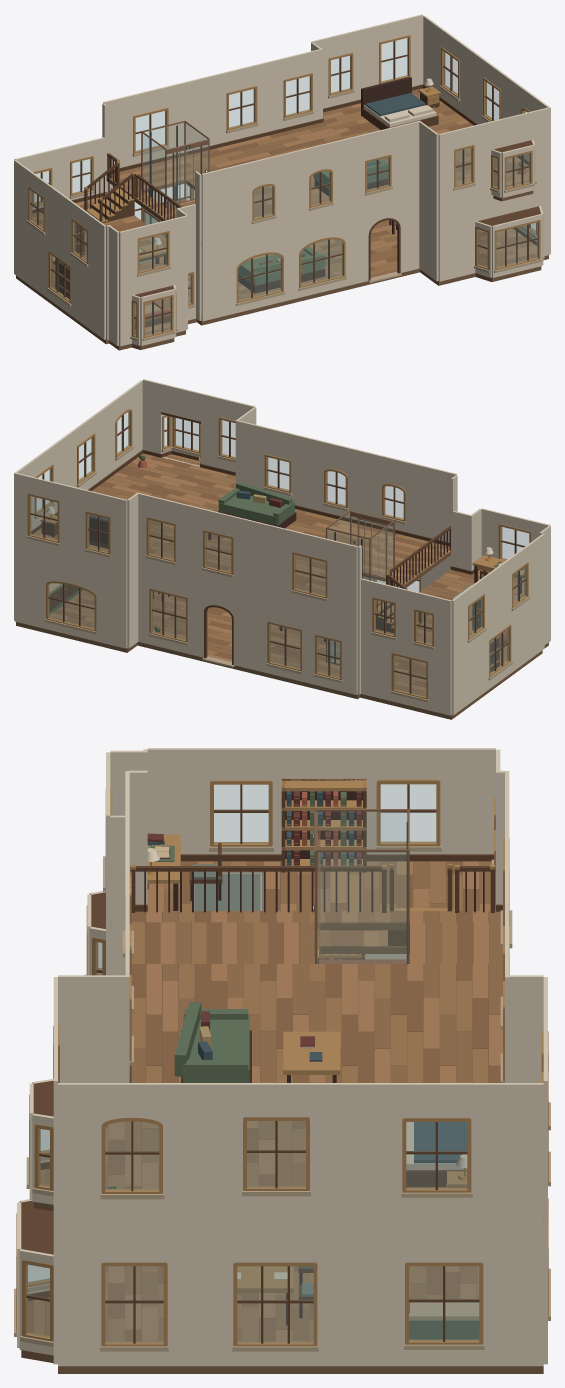
Rendered from manor-villa-interior.glb.
3 views of the same model, one above another, from view 1: azimuth 30°, elevation 25°; view 2: azimuth 150°, elevation 25°; view 3: azimuth 270°, elevation 25° (orthographic). The views are drawn at different scales.
Parts seen in each view (by area): view 1: Villa exterior wall 0 level 2 - plaster, Villa exterior wall 1 level 2 - plaster, Villa exterior wall 0 level 1 - plaster, Villa exterior wall 2 level 2 - plaster, Villa exterior wall 4 level 2 - plaster, Villa exterior wall 2 level 1 - plaster, Villa exterior wall 3 level 2 - plaster, Villa exterior wall 13 level 1 - plaster, Villa exterior wall 13 level 2 - plaster, Villa exterior wall 0 level 1 - glass, Villa exterior wall 9 level 2 - plaster, Upper floorboards - floor0 (+57 smaller); view 2: Villa exterior wall 1 level 2 - plaster, Villa exterior wall 0 level 2 - plaster, Villa exterior wall 1 level 1 - plaster, Villa exterior wall 3 level 1 - plaster, Villa exterior wall 3 level 2 - plaster, Villa exterior wall 4 level 2 - plaster, Villa exterior wall 2 level 2 - plaster, Villa exterior wall 13 level 1 - plaster, Villa exterior wall 13 level 2 - plaster, Upper floorboards - floor0, Villa exterior wall 12 level 2 - plaster, Villa exterior wall 12 level 1 - plaster (+47 smaller); view 3: Villa exterior wall 4 level 2 - plaster, Villa exterior wall 4 level 1 - plaster, Villa exterior wall 13 level 2 - plaster, Upper floorboards - floor0, Upper floorboards - floor2, Upper floorboards - floor3, Upper floorboards - floor1, Villa exterior wall 4 level 1 - glass, Side glazing (×2), Villa exterior wall 4 level 2 - glass, Villa exterior wall 5 level 2 - plaster, Villa exterior wall 13 level 2 - glass (+47 smaller).
Part boxes in pixels (box(x1,y1,x2,y2)): Villa exterior wall 0 level 2 - plaster: box(201, 120, 419, 246); Villa exterior wall 1 level 2 - plaster: box(103, 48, 322, 169); Villa exterior wall 0 level 1 - plaster: box(201, 194, 419, 321); Villa exterior wall 2 level 2 - plaster: box(438, 107, 550, 207); Villa exterior wall 4 level 2 - plaster: box(423, 15, 550, 179); Villa exterior wall 2 level 1 - plaster: box(438, 180, 550, 281); Villa exterior wall 3 level 2 - plaster: box(311, 14, 423, 108); Villa exterior wall 13 level 1 - plaster: box(14, 218, 105, 339); Villa exterior wall 13 level 2 - plaster: box(14, 160, 105, 283); Villa exterior wall 0 level 1 - glass: box(238, 239, 342, 300); Villa exterior wall 9 level 2 - plaster: box(119, 215, 187, 290); Upper floorboards - floor0: box(32, 92, 529, 270); Villa exterior wall 1 level 2 - plaster: box(136, 492, 357, 619); Villa exterior wall 0 level 2 - plaster: box(235, 420, 456, 542); Villa exterior wall 1 level 1 - plaster: box(138, 567, 357, 694); Villa exterior wall 3 level 1 - plaster: box(14, 546, 127, 648); Villa exterior wall 3 level 2 - plaster: box(14, 473, 127, 573); Villa exterior wall 4 level 2 - plaster: box(14, 380, 142, 545); Villa exterior wall 2 level 2 - plaster: box(142, 379, 255, 471); Villa exterior wall 13 level 1 - plaster: box(451, 592, 544, 715); Villa exterior wall 13 level 2 - plaster: box(451, 534, 544, 658); Upper floorboards - floor0: box(39, 455, 524, 637); Villa exterior wall 12 level 2 - plaster: box(361, 578, 451, 658); Villa exterior wall 12 level 1 - plaster: box(361, 637, 451, 715); Villa exterior wall 4 level 2 - plaster: box(58, 1083, 543, 1222); Villa exterior wall 4 level 1 - plaster: box(58, 1222, 543, 1366); Villa exterior wall 13 level 2 - plaster: box(147, 748, 495, 854); Upper floorboards - floor0: box(46, 861, 502, 1188); Upper floorboards - floor2: box(105, 861, 500, 1188); Upper floorboards - floor3: box(108, 861, 502, 1188); Upper floorboards - floor1: box(40, 861, 488, 1188); Villa exterior wall 4 level 1 - glass: box(105, 1266, 478, 1342); Side glazing (×2): box(318, 812, 406, 963); Villa exterior wall 4 level 2 - glass: box(105, 1121, 466, 1190); Villa exterior wall 5 level 2 - plaster: box(58, 975, 129, 1082); Villa exterior wall 13 level 2 - glass: box(214, 784, 435, 842).
Size of the model in its own units: 18.12 by 6.16 by 10.24.
